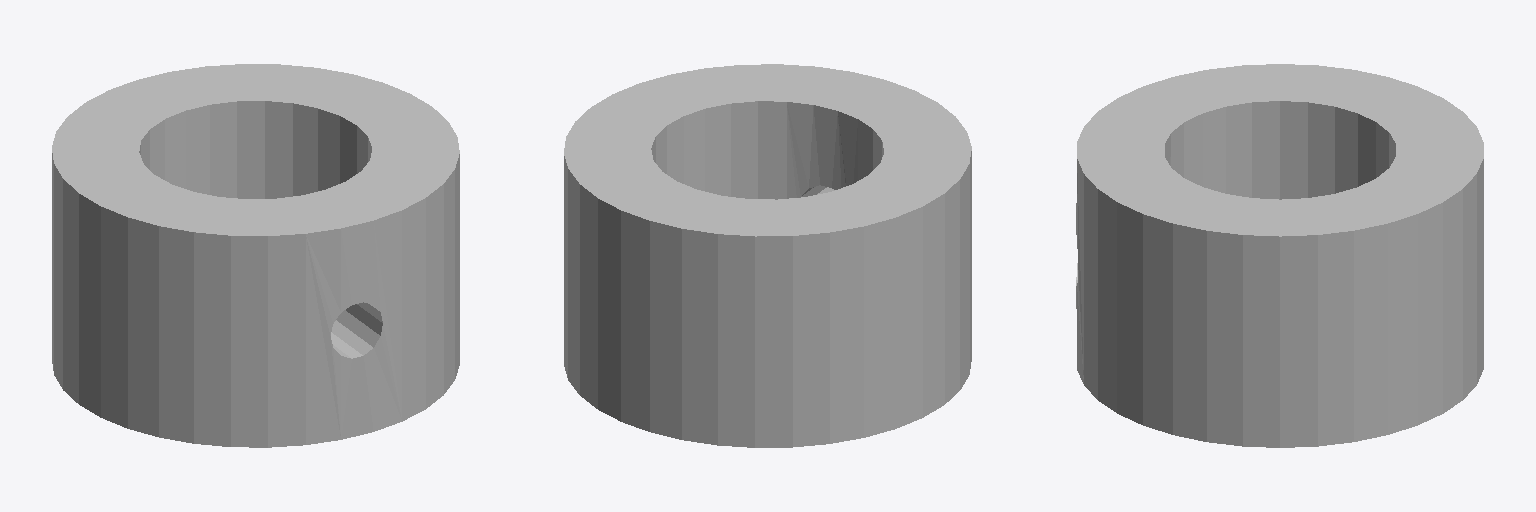
The model's file is ideas_gear_boss.obj.
3 renders of one model, left to right at view 1: azimuth 30°, elevation 25°; view 2: azimuth 150°, elevation 25°; view 3: azimuth 270°, elevation 25°, orthographic.
Visible parts, largest first — view 1: 1; view 2: 1; view 3: 1.
Boxes of the visible parts, box(x1,y1,x2,y2) form: 1: box(52, 64, 459, 447); 1: box(564, 64, 971, 447); 1: box(1076, 64, 1483, 447).
Bounding box in the file's own units: 22.23 × 12.7 × 22.17.